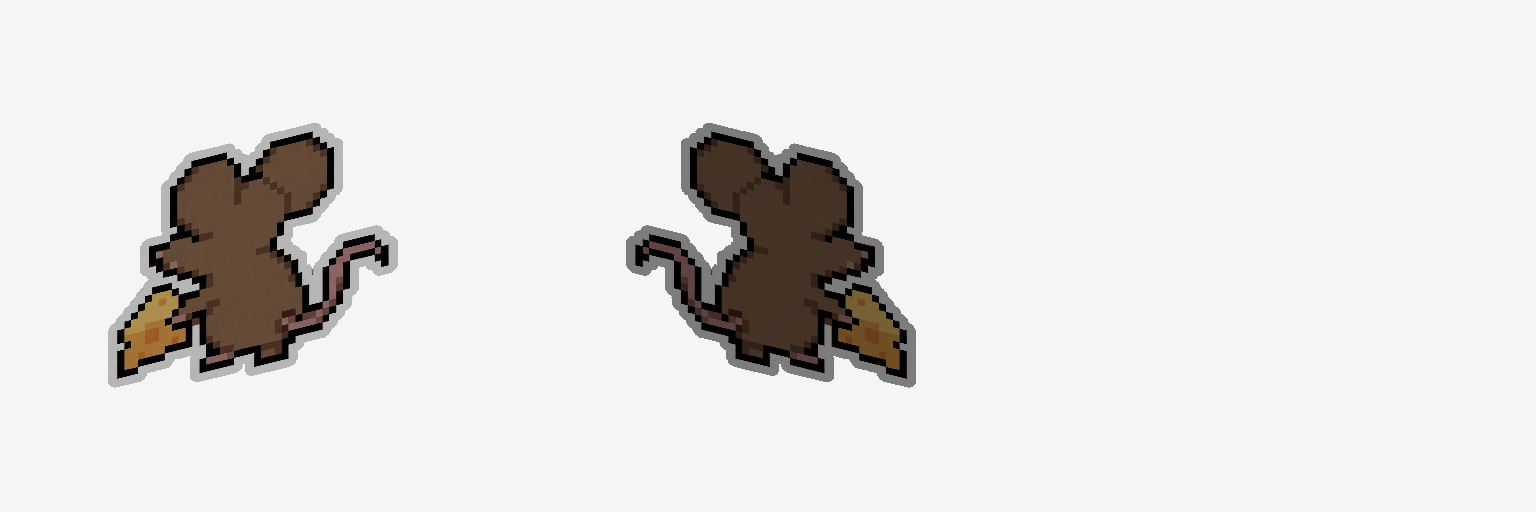
3 views of the same model, side by side, from view 1: azimuth 30°, elevation 25°; view 2: azimuth 150°, elevation 25°; view 3: azimuth 270°, elevation 25° (orthographic).
Visible parts, largest first — view 1: player.001; view 2: player.001; view 3: none.
Boxes of the visible parts, box(x1,y1,x2,y2) form: player.001: box(108, 123, 397, 387); player.001: box(626, 123, 915, 387).
Size of the model in its own units: 1.12 by 1 by 0.
1 materials, 1 textured.